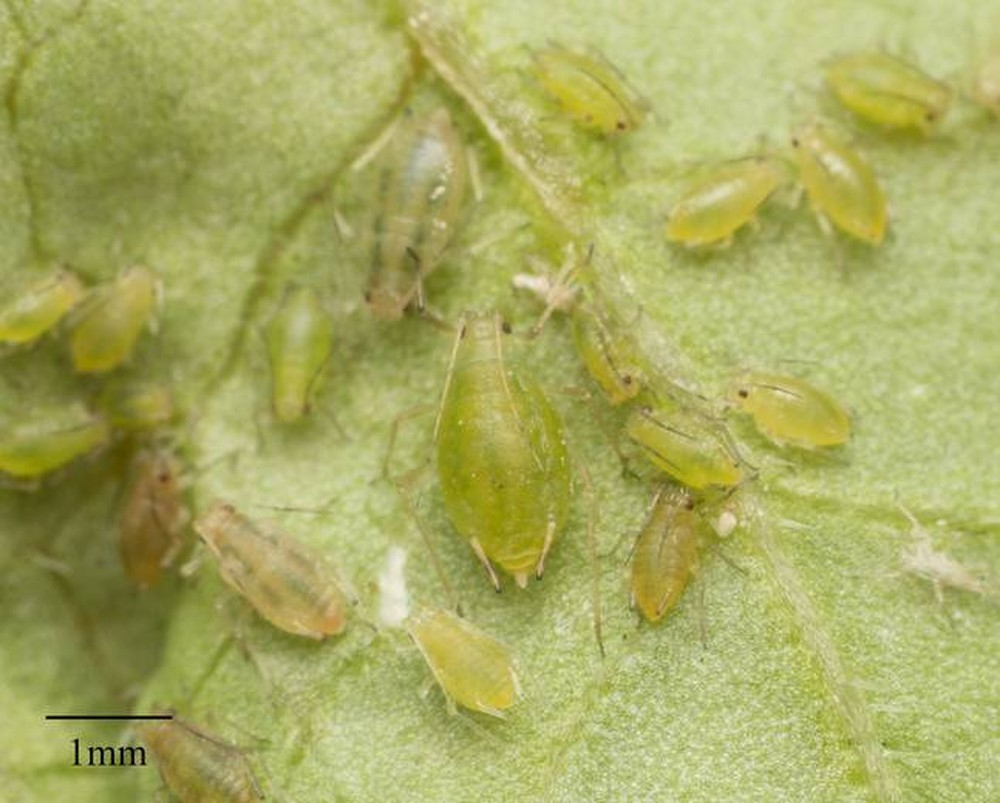Pulgon: (405, 281, 623, 613), (305, 103, 494, 333), (186, 495, 377, 670), (605, 474, 765, 650), (512, 25, 666, 185), (383, 587, 544, 736), (124, 691, 303, 803), (239, 273, 359, 436), (771, 114, 896, 266), (808, 31, 965, 148), (716, 352, 870, 468), (618, 392, 764, 512), (560, 286, 690, 412), (662, 136, 794, 256)
